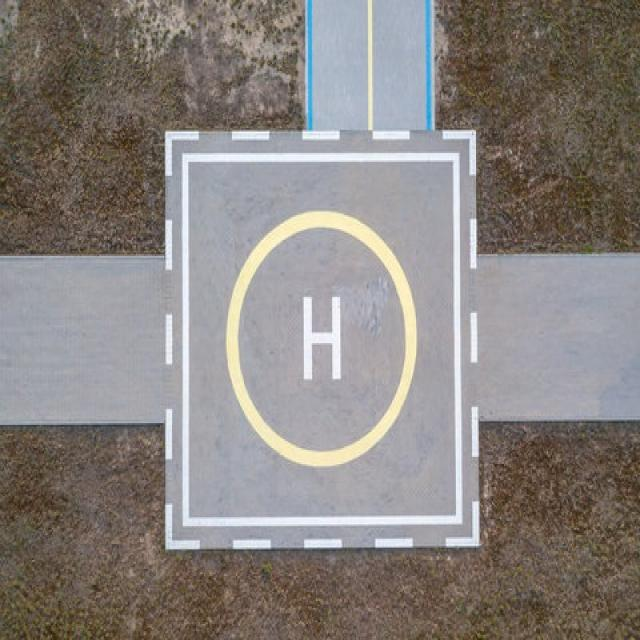helipad: (217, 205, 420, 470)
